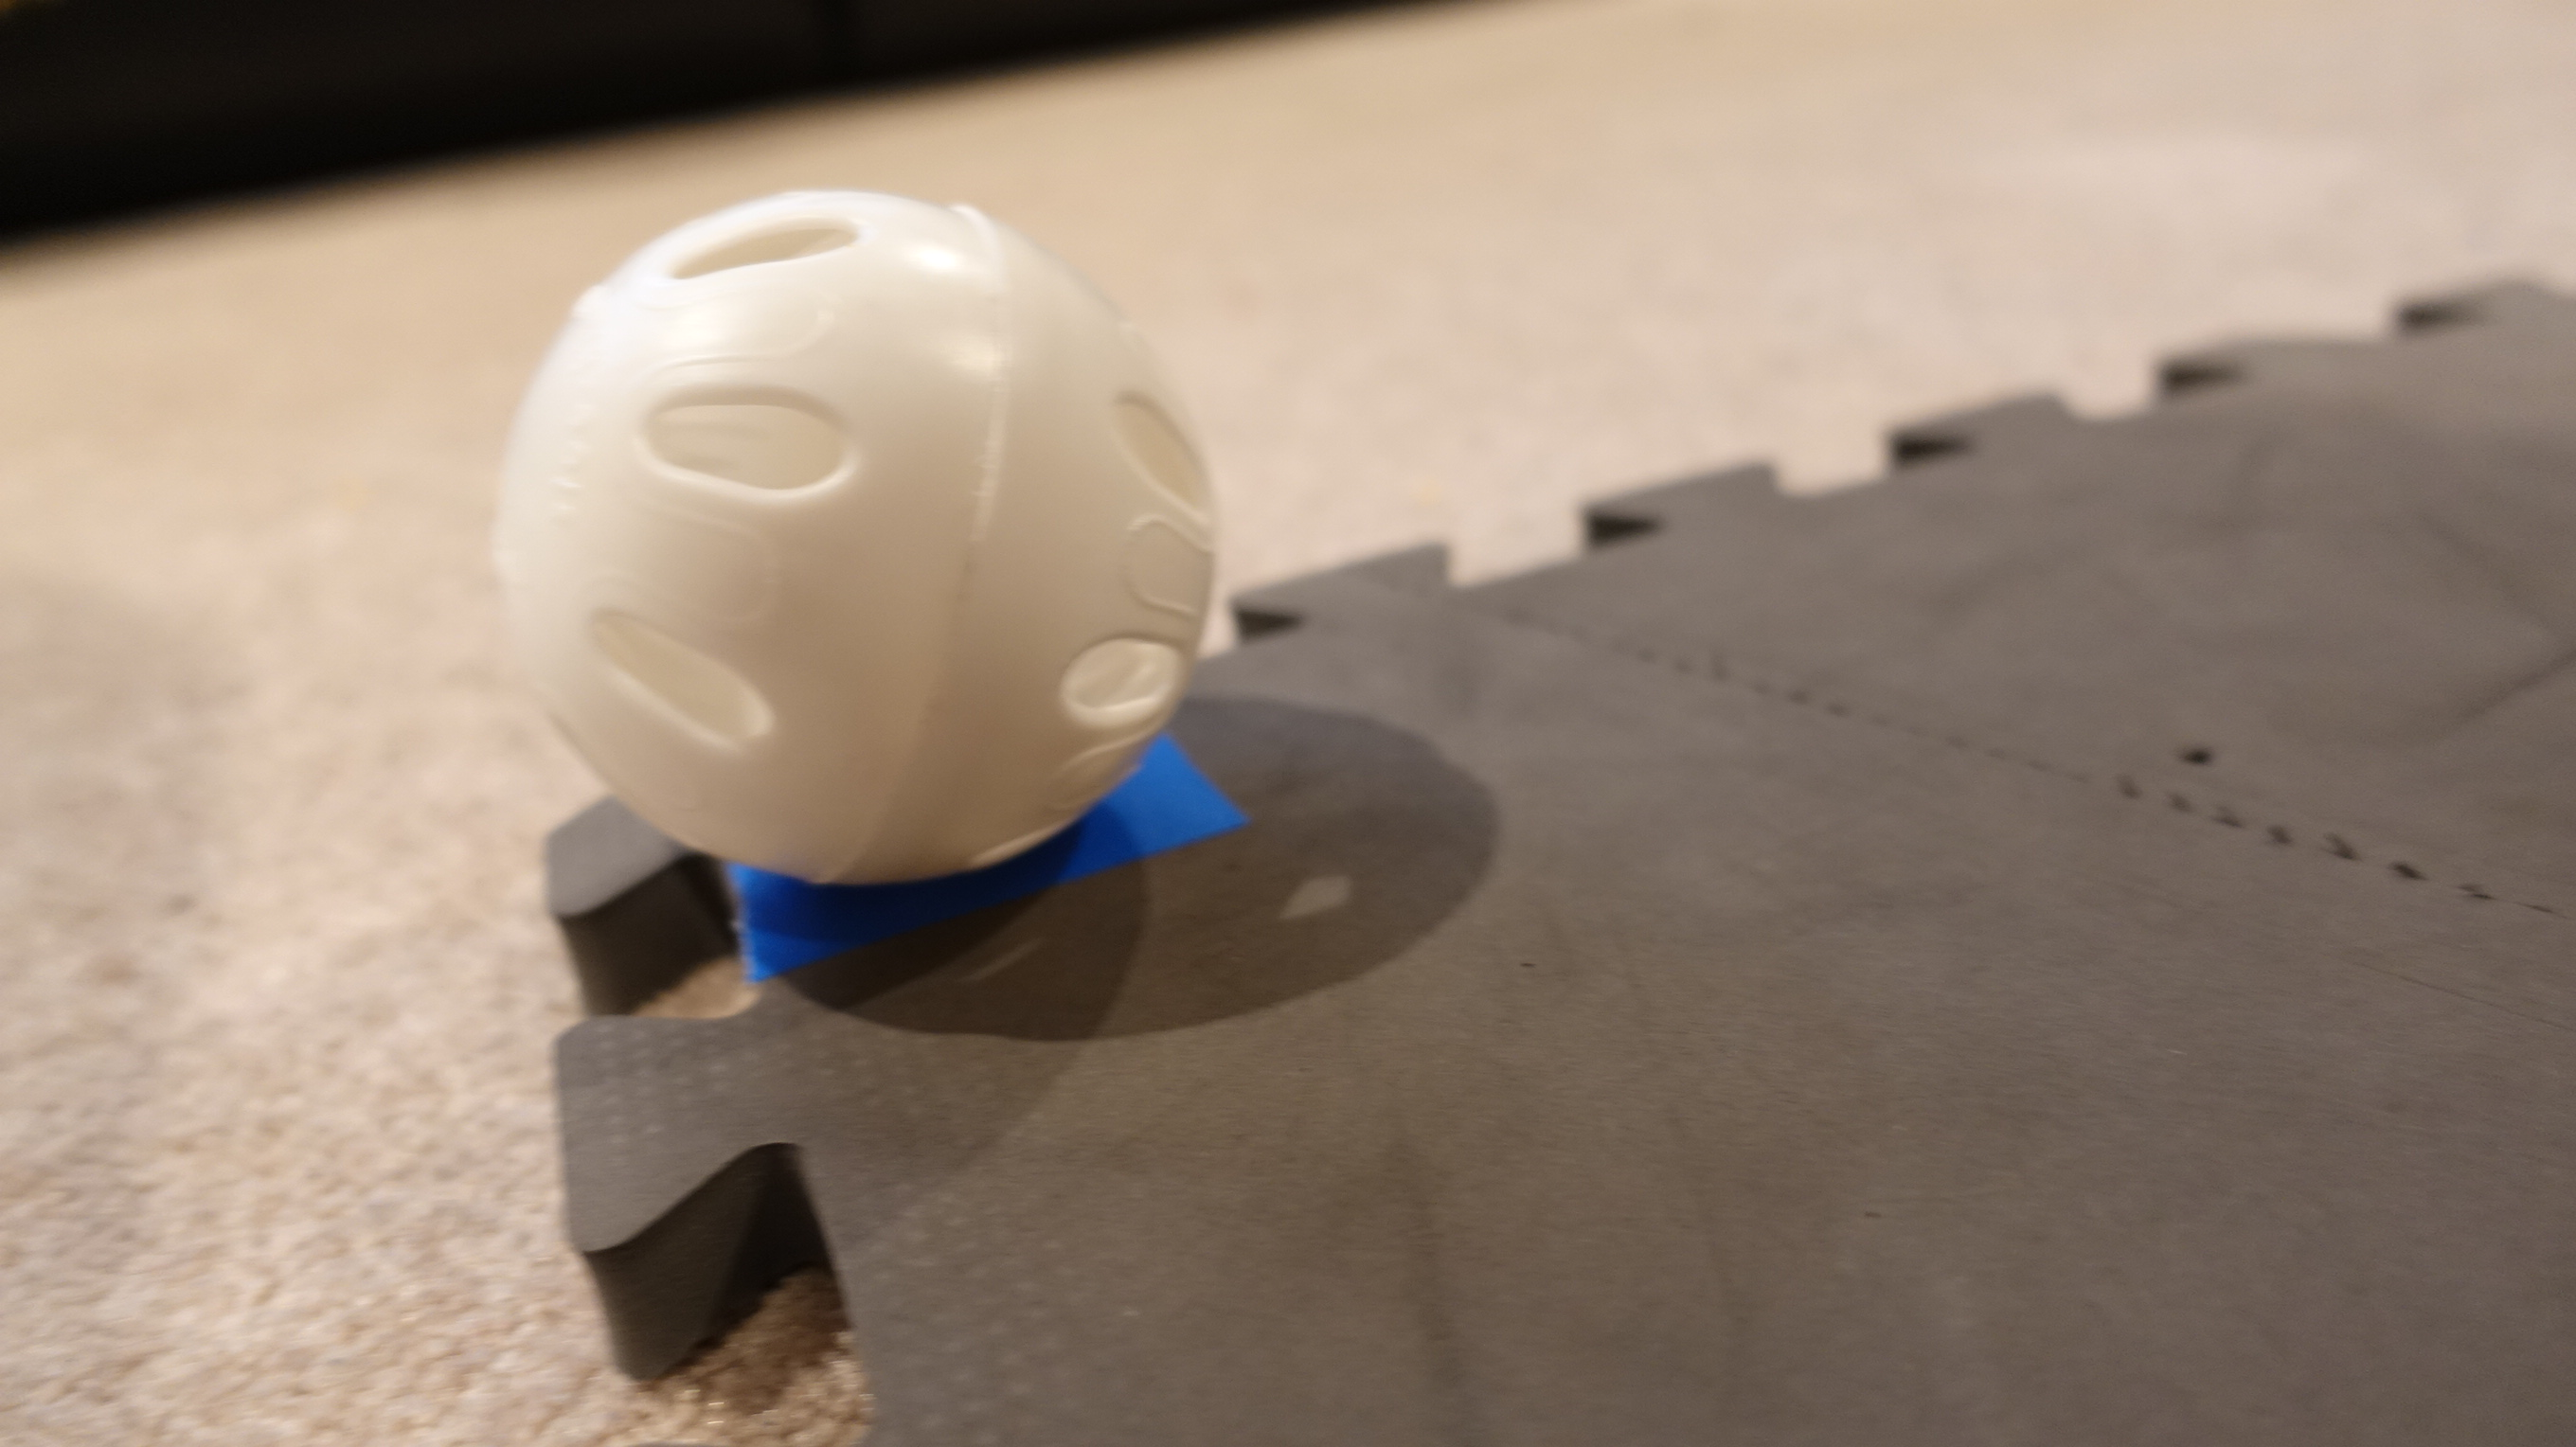silver: (487, 203, 1226, 884)
